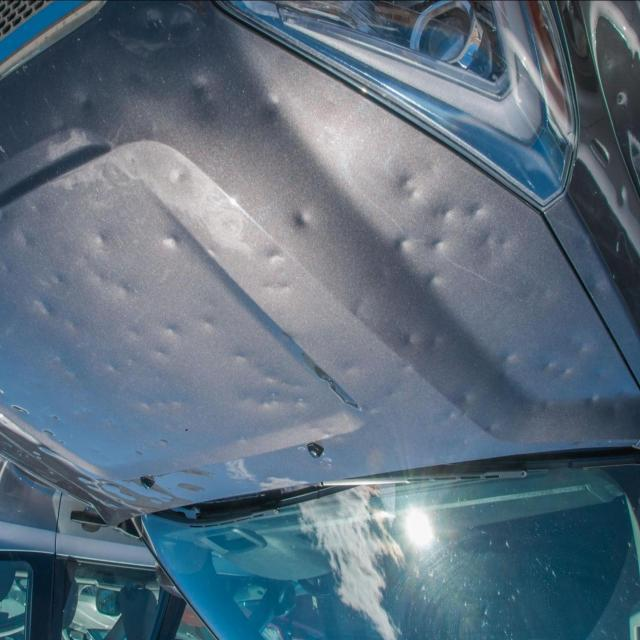dent: (351, 134, 536, 348)
